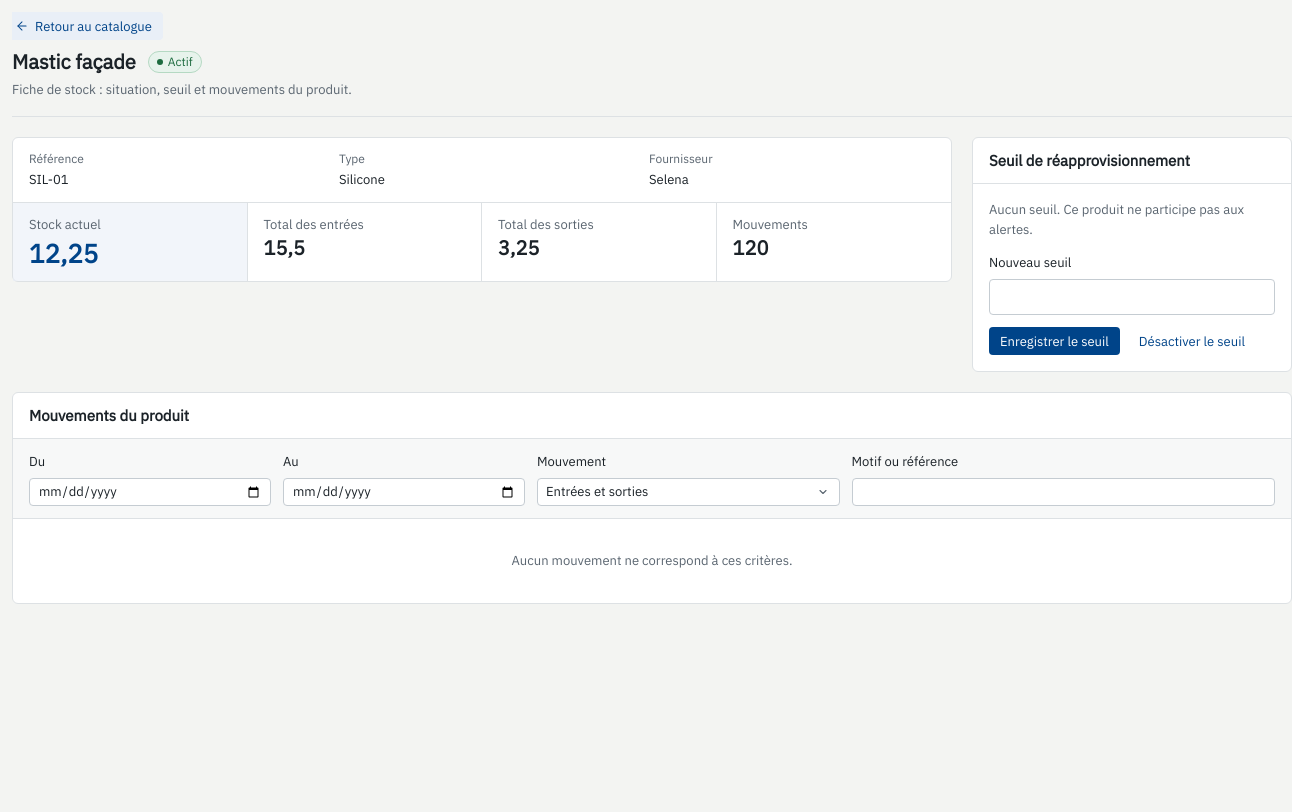
it: fiche de stock › transmet les filtres et signale une période inversée
Expected: the heading "Mastic façade" is shown, [12, 48, 136, 76]
Type "BS-9" into the field labelled "Motif ou référence". click: (1063, 492)
box: [852, 478, 1275, 506]
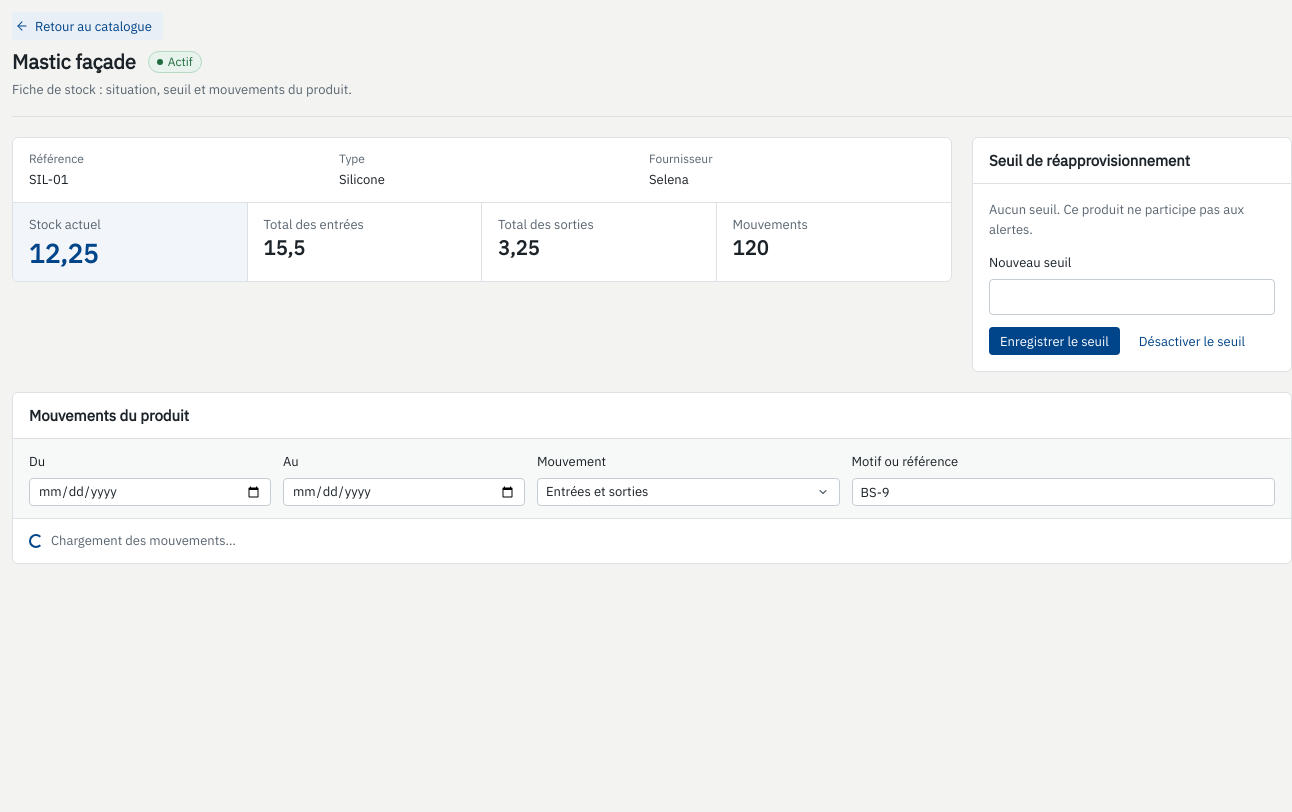
Select "Sorties" in the dropdown labelled "Mouvement". click: (688, 492)
box: [537, 478, 840, 506]
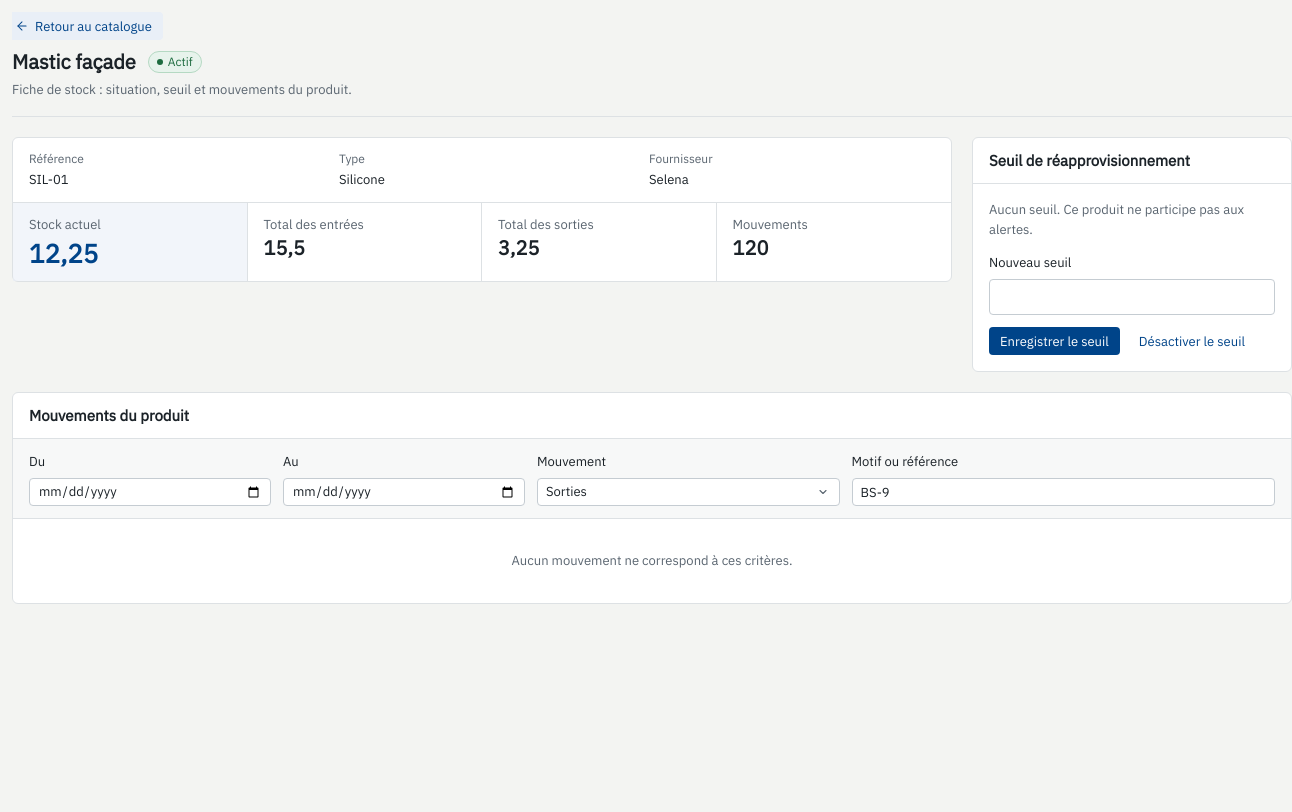
Result: the text "Aucun mouvement ne correspond à ces critères." is shown at [512, 552, 792, 569]
Type "2026-05-02" into the date field labelled "Du". click: (150, 492)
box: [29, 478, 271, 506]
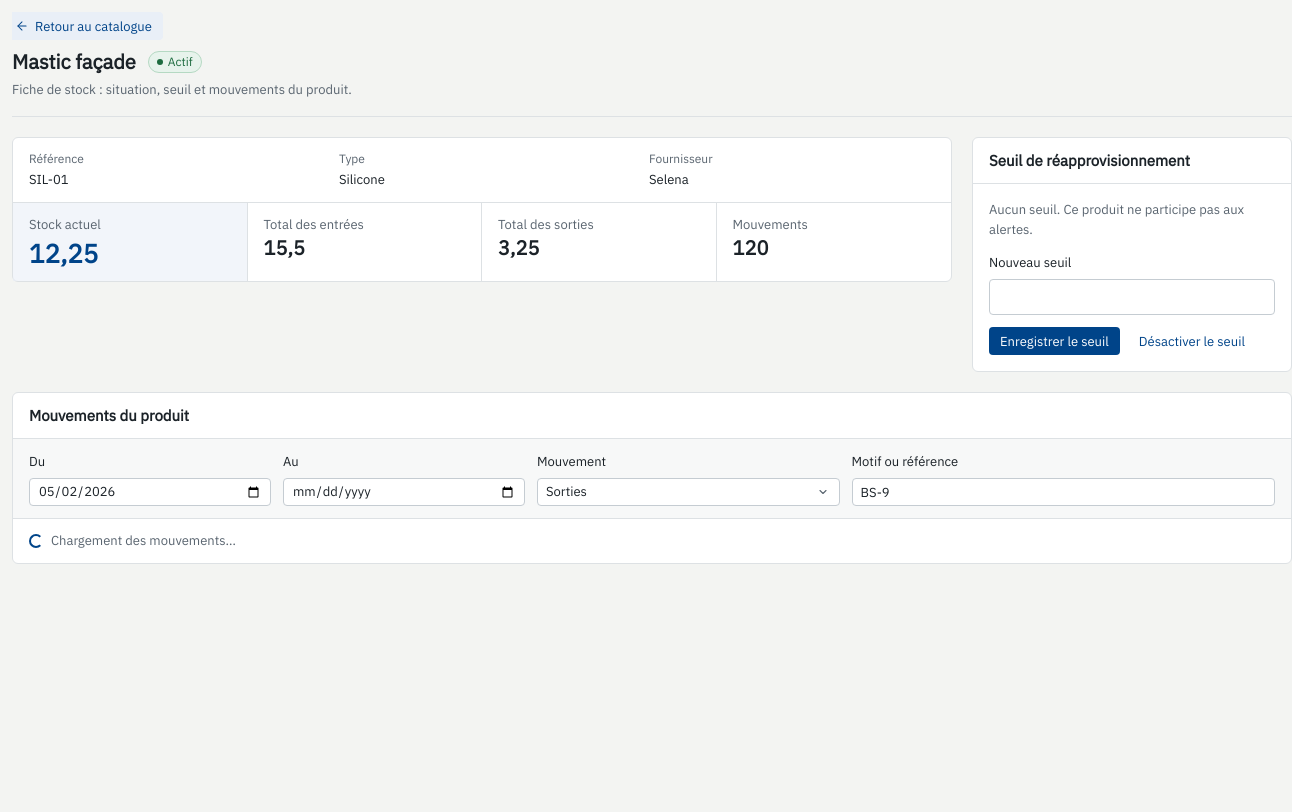
Type "2026-01-01" into the date field labelled "Au". click: (404, 492)
box: [283, 478, 525, 506]
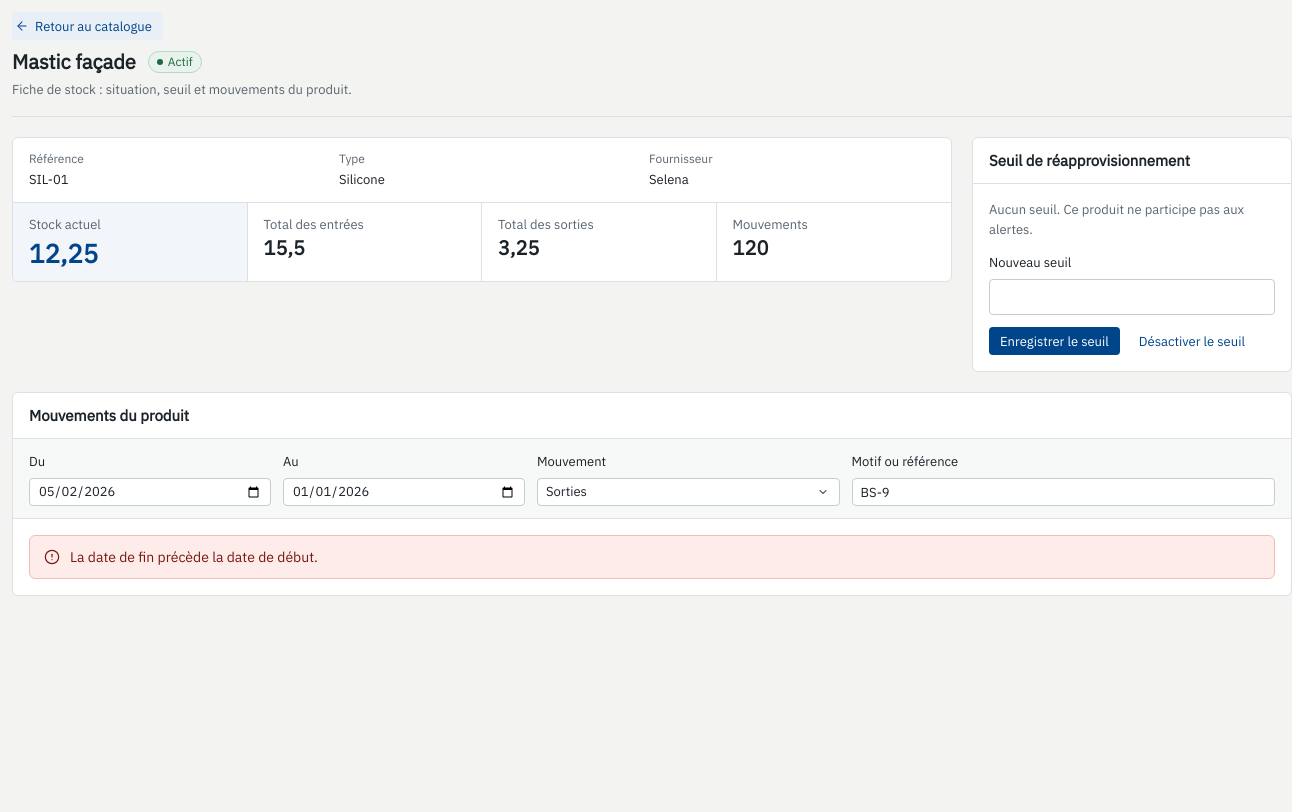
Result: the text "La date de fin précède la date de début." is shown at [70, 548, 318, 566]
